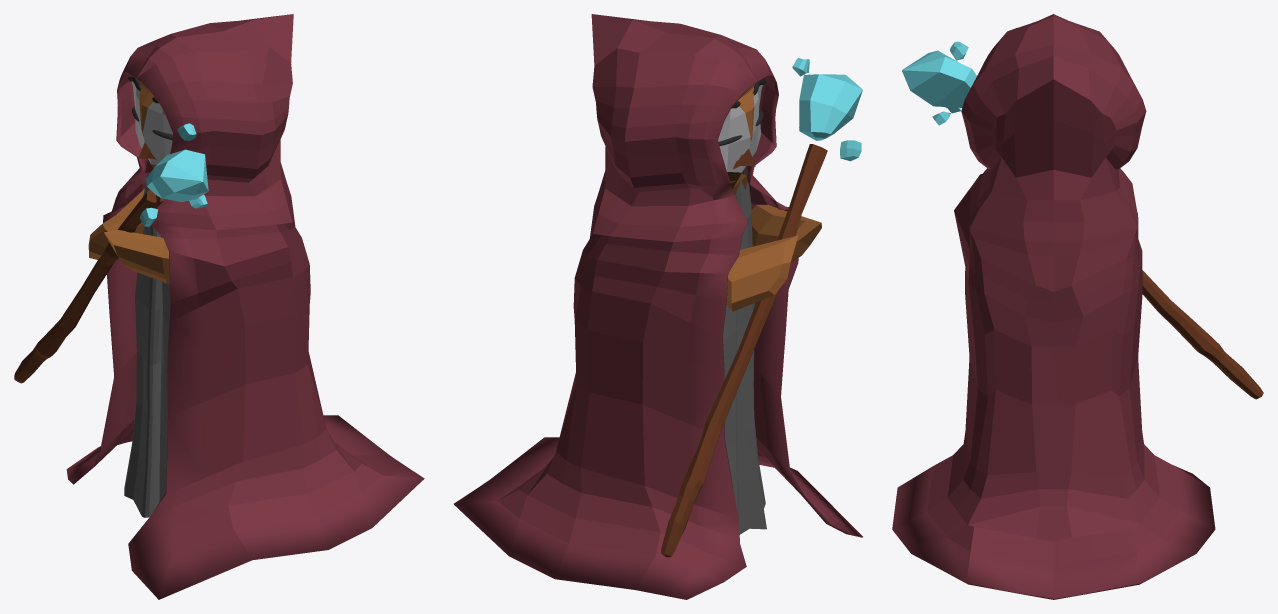
The model's file is WarMage_V3.fbx.
3 renders of one model, left to right at view 1: azimuth 30°, elevation 25°; view 2: azimuth 150°, elevation 25°; view 3: azimuth 270°, elevation 25°, orthographic. The views are drawn at different scales.
Visible parts, largest first — view 1: umhang, mantel, stick, main stone, hand.001, Head, hand; view 2: umhang, stick, mantel, hand, main stone, Head, hand.001; view 3: umhang, stick, main stone.
Boxes of the visible parts, bbox=[...] form: umhang: bbox=[66, 14, 424, 599]; mantel: bbox=[124, 172, 170, 517]; stick: bbox=[14, 190, 163, 383]; main stone: bbox=[146, 149, 208, 201]; hand.001: bbox=[104, 230, 169, 283]; Head: bbox=[132, 80, 172, 167]; hand: bbox=[88, 189, 144, 259]; umhang: bbox=[454, 14, 862, 599]; stick: bbox=[661, 144, 827, 557]; mantel: bbox=[722, 170, 766, 542]; hand: bbox=[726, 235, 798, 311]; main stone: bbox=[799, 74, 862, 140]; Head: bbox=[718, 84, 762, 188]; hand.001: bbox=[751, 205, 821, 262]; umhang: bbox=[892, 14, 1215, 599]; stick: bbox=[1142, 270, 1263, 399]; main stone: bbox=[902, 50, 976, 107].
Size of the model in its own units: 19.93 by 31.5 by 21.03.
